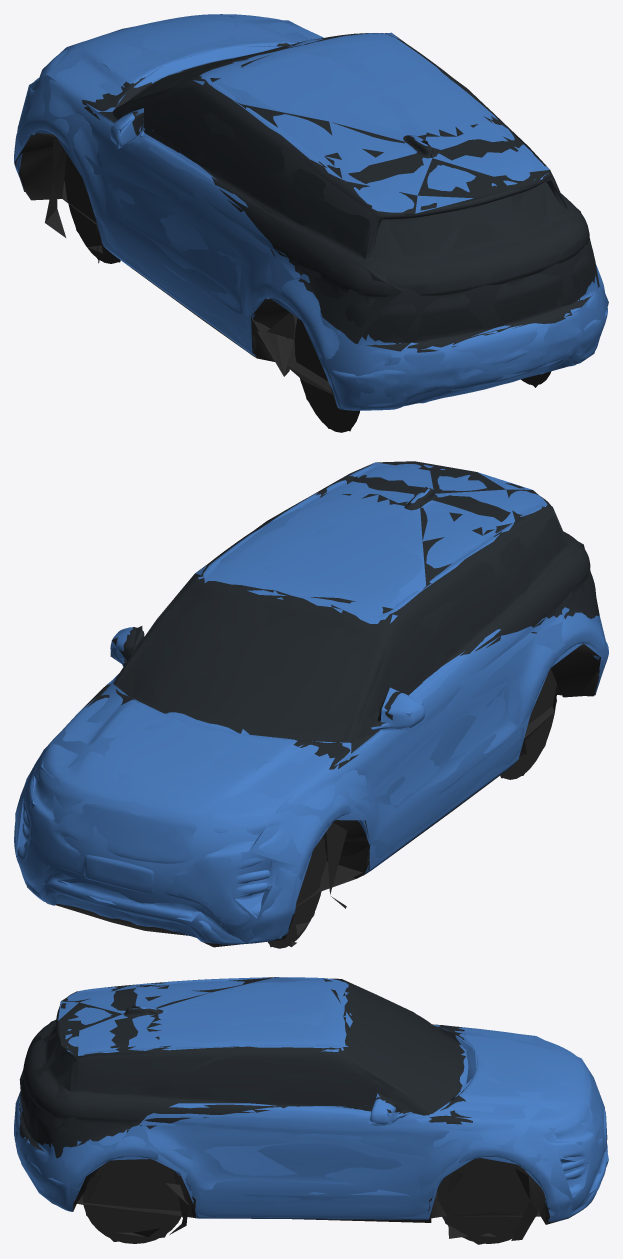
Rendered from land-rover-range-rover-evoque.glb.
The picture shows the model from 3 angles, top to bottom: view 1: azimuth 30°, elevation 25°; view 2: azimuth 150°, elevation 25°; view 3: azimuth 270°, elevation 25°; orthographic projection. The views are drawn at different scales.
Visible parts, largest first — view 1: body, far; view 2: body, far; view 3: body, far.
Boxes of the visible parts, left/top/right/bottom form: body: left=14, top=14, right=607, bottom=432; far: left=14, top=15, right=608, bottom=431; body: left=14, top=462, right=608, bottom=948; far: left=15, top=461, right=608, bottom=947; body: left=14, top=977, right=607, bottom=1243; far: left=14, top=977, right=608, bottom=1244.
Bounding box in the file's own units: 2.08 × 1.7 × 4.5.
